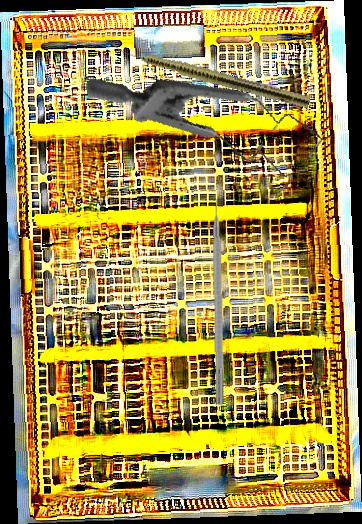Chopper: (211, 184, 237, 405)
Handpiece: (107, 40, 312, 110)
Speculum: (84, 31, 332, 231)
